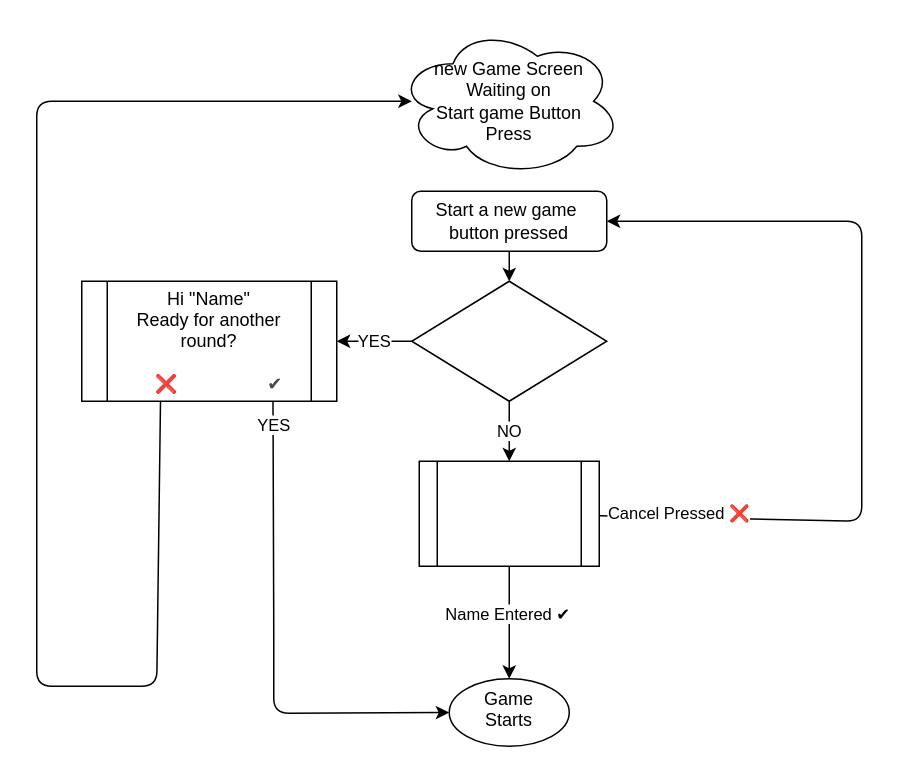
Some shapes in this 900 by 773 pixel diagram are drawn without their labels. The box of each missing label's shape, as (x1, y1, x2, y2) in pixels:
is player name already saved in "userName": (410, 280, 607, 401)
Please Enter Name : _____ ✔ ❌: (418, 460, 599, 566)
